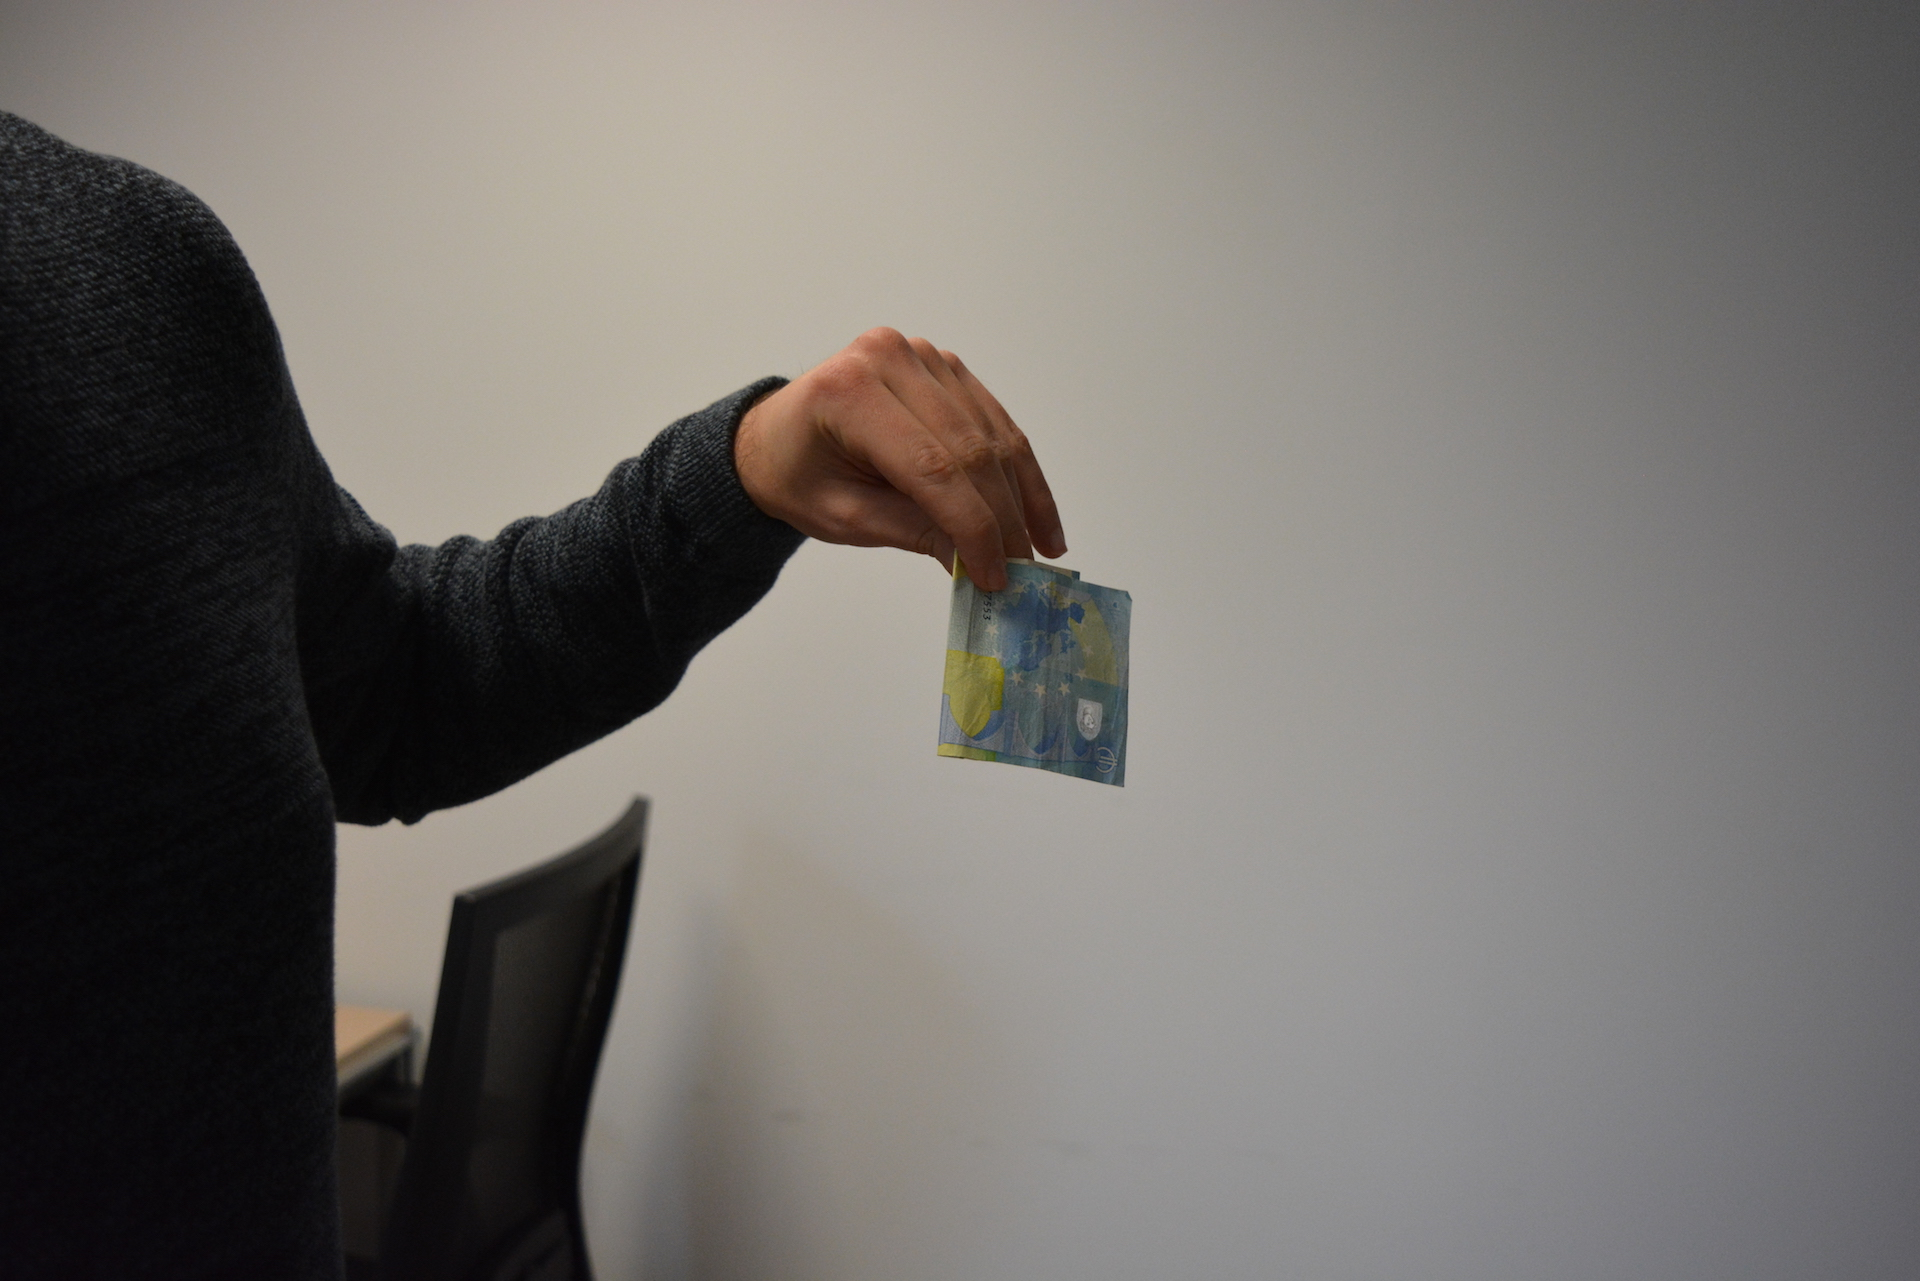billete: (936, 542, 1134, 789)
